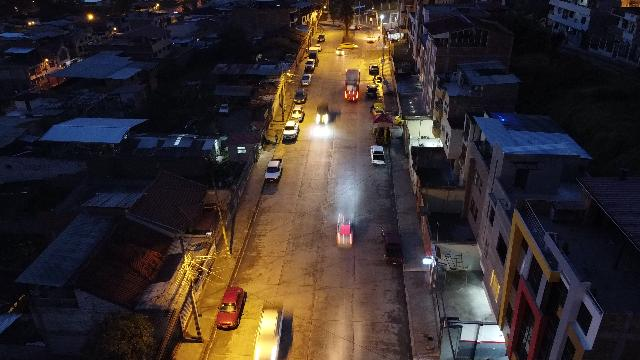Vehiculo: (216, 286, 247, 330), (382, 229, 404, 265), (265, 159, 283, 181), (283, 120, 299, 140), (370, 145, 386, 165), (291, 105, 305, 121), (294, 88, 306, 103), (371, 103, 385, 115), (367, 85, 378, 97), (301, 74, 311, 86), (339, 43, 358, 49), (219, 103, 229, 114), (369, 64, 378, 74), (306, 60, 314, 70), (318, 34, 324, 42), (336, 48, 344, 54), (316, 44, 322, 52), (367, 36, 375, 42), (355, 26, 361, 30)
